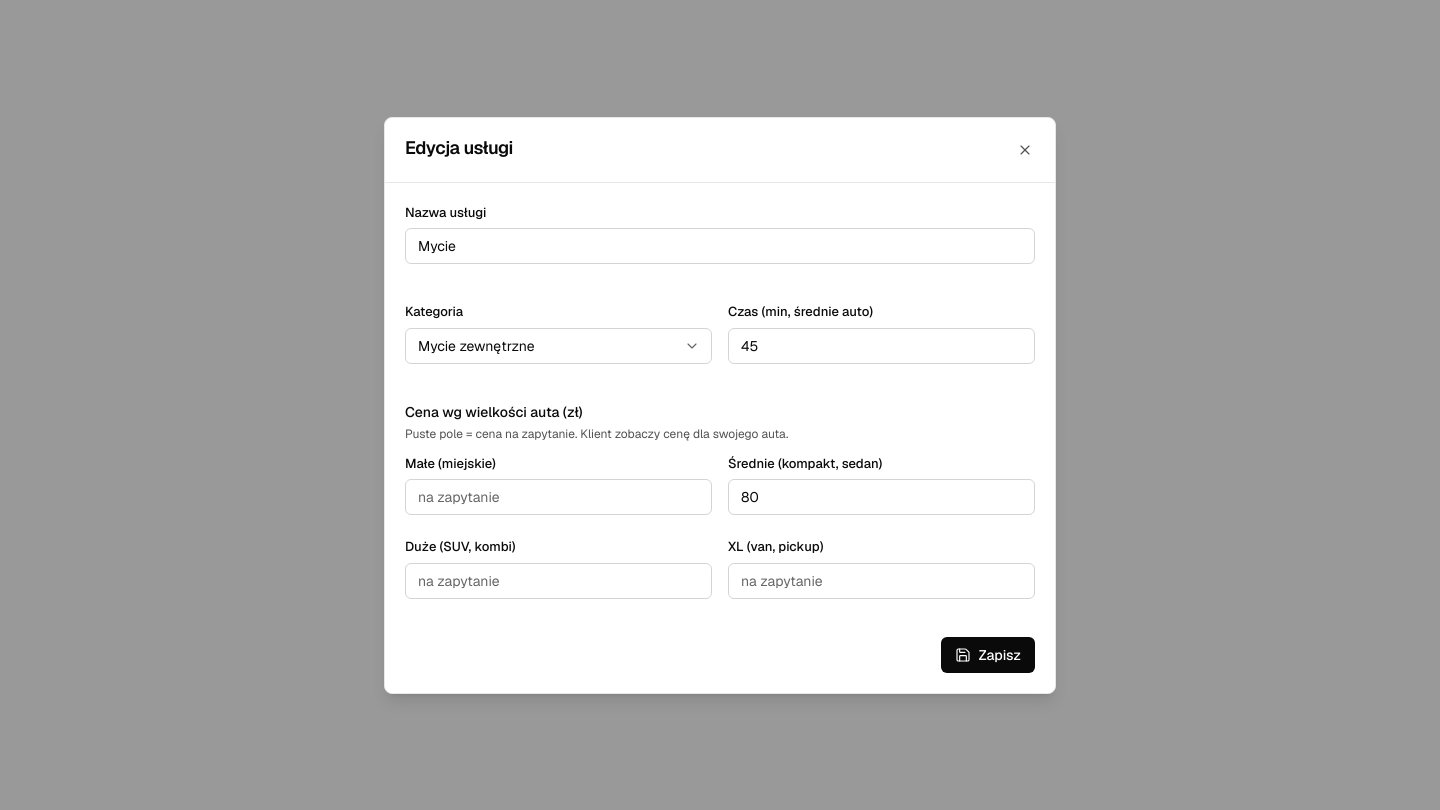
Scenario: ServiceFormModal › edits an existing service and rejects a bad duration
Expected: the field showing "80" is shown, [728, 479, 1035, 515]
Replace the text in the field showing "45" with "2": (882, 346) [728, 328, 1035, 364]
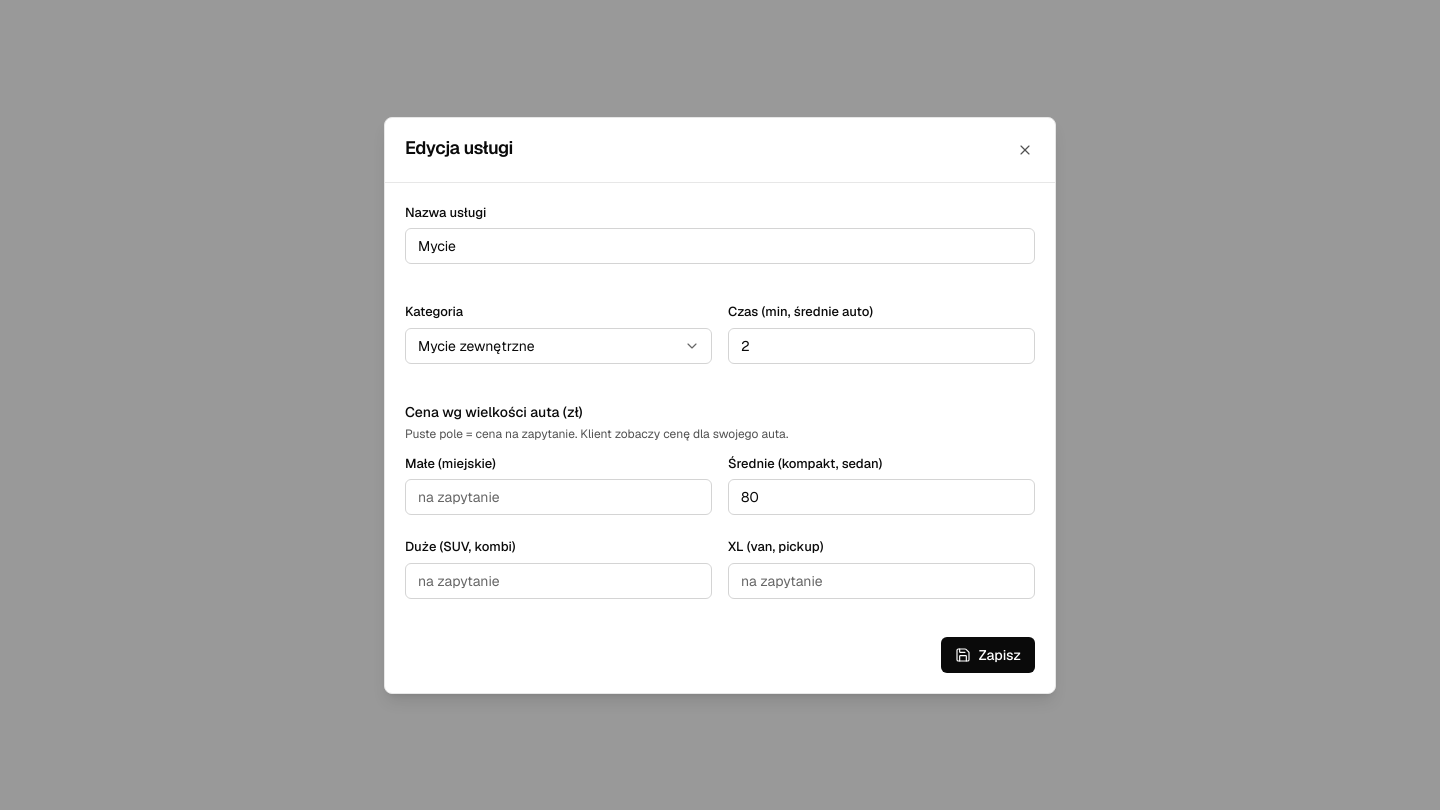
Click the button "Zapisz": (988, 654) [941, 636, 1035, 672]
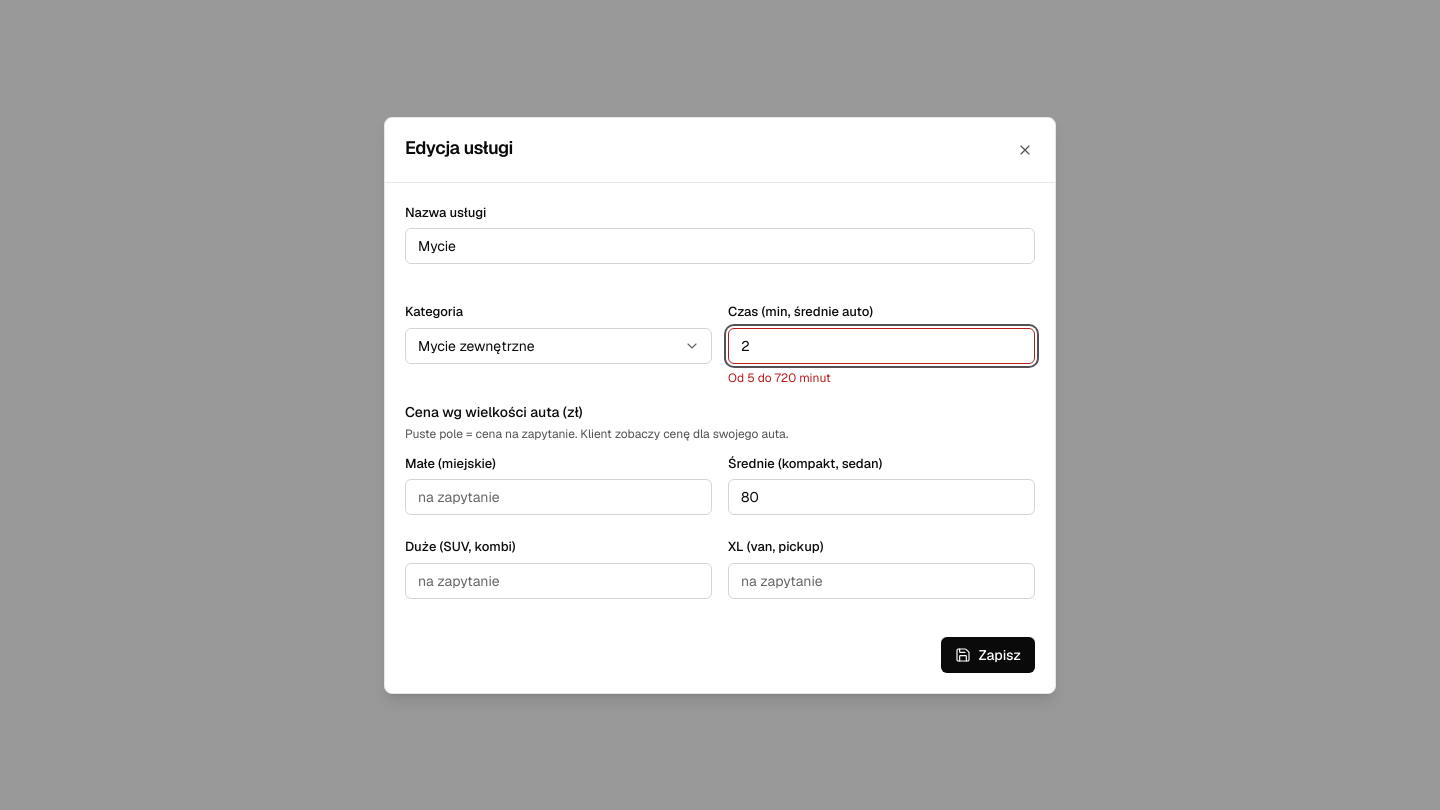
Now the text "Od 5 do 720 minut" is shown, box [728, 370, 831, 386]
